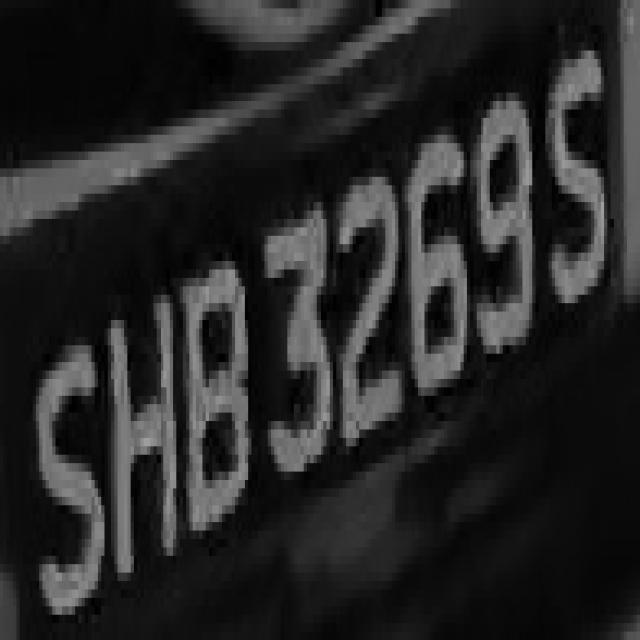2: (326, 168, 414, 472)
3: (255, 194, 336, 488)
6: (398, 152, 474, 412)
9: (467, 101, 532, 413)
B: (170, 269, 254, 539)
H: (94, 286, 180, 598)
S: (529, 68, 627, 328), (20, 329, 104, 623)
